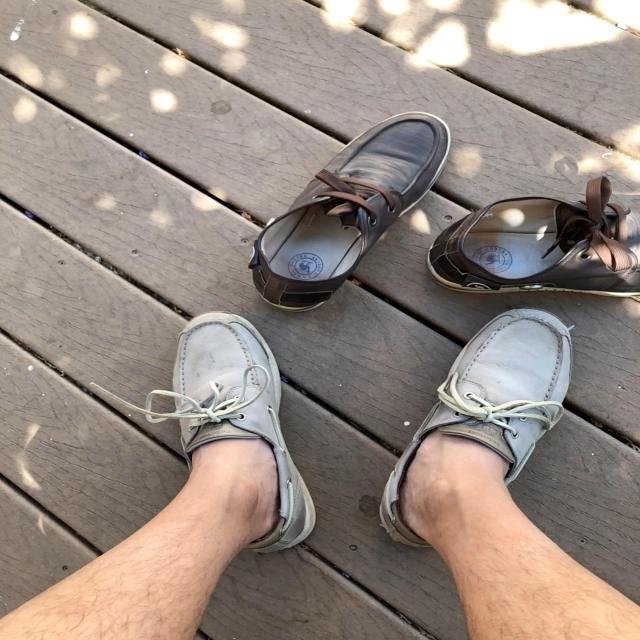shoe: (378, 311, 572, 548), (171, 314, 316, 553)
